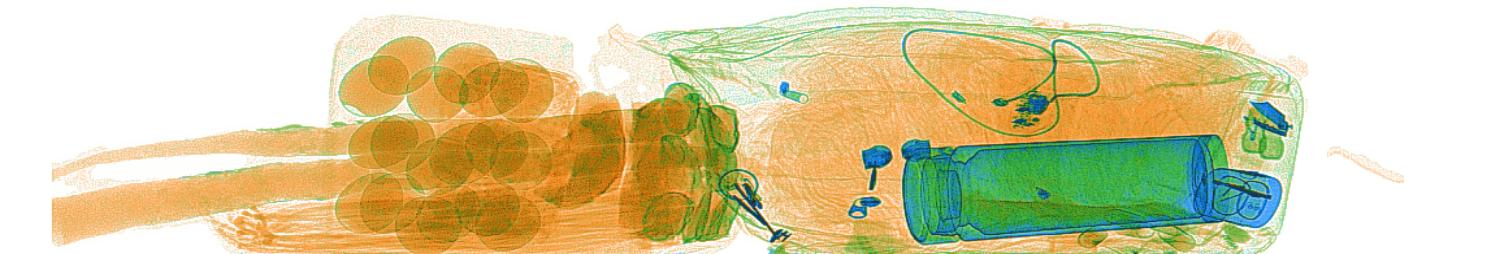knife: (1244, 96, 1293, 135)
